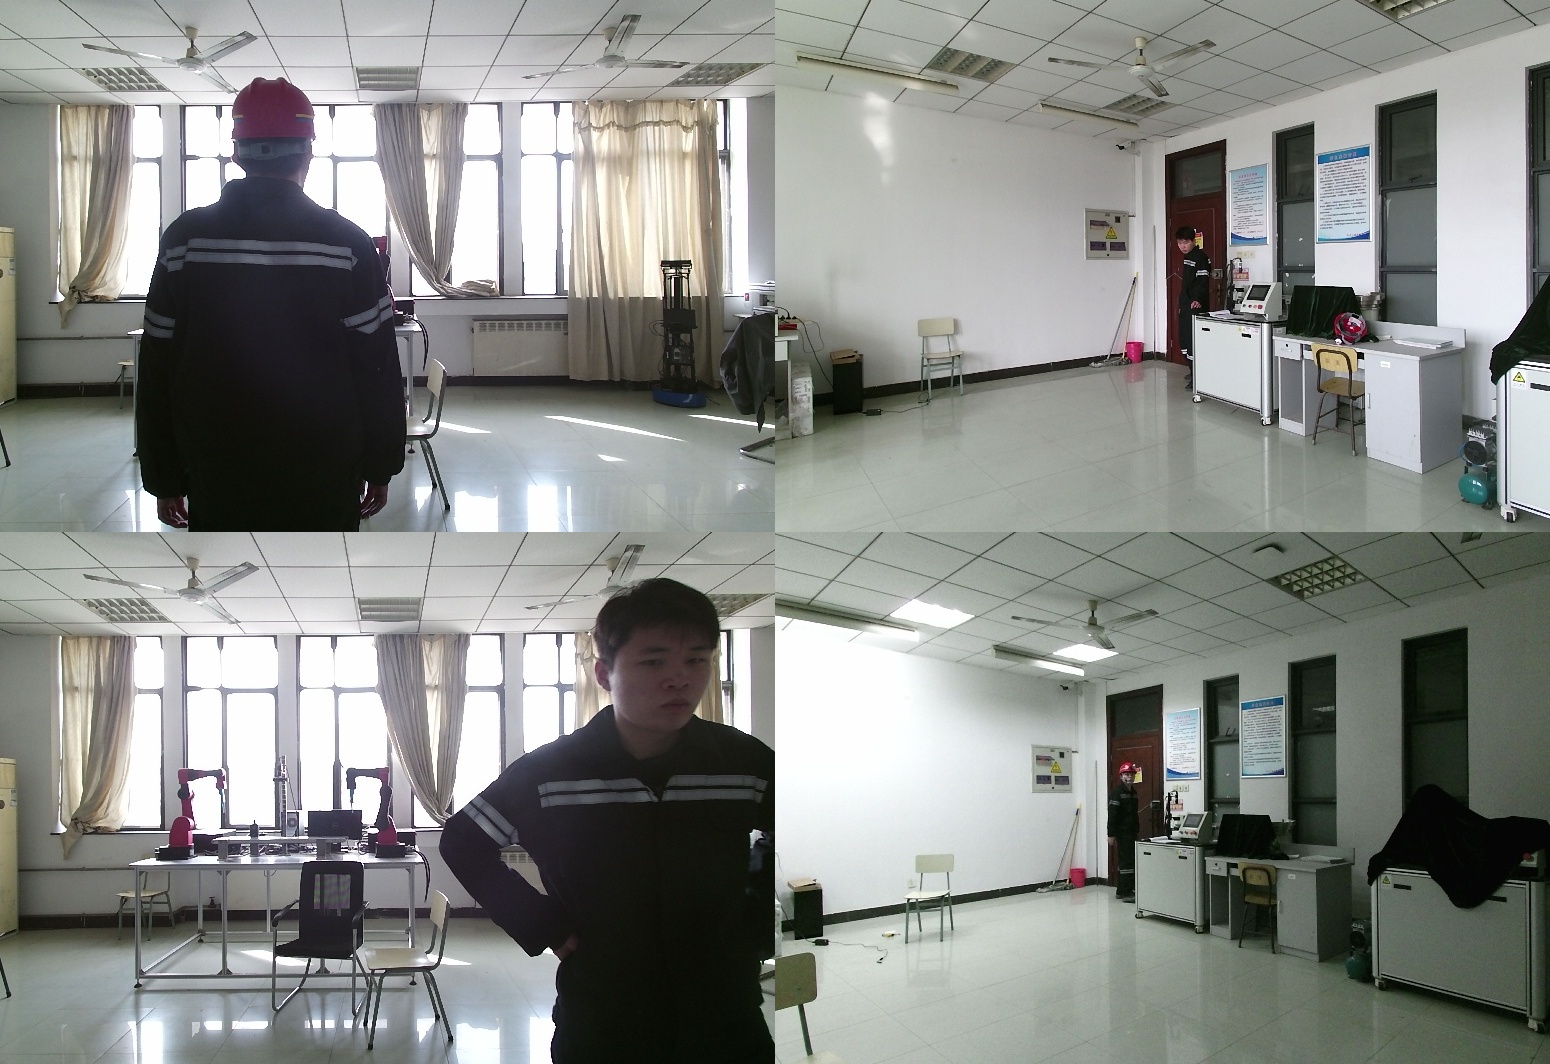person: (442, 581, 775, 1064), (136, 79, 409, 532), (1105, 764, 1145, 906), (1176, 230, 1220, 318)
